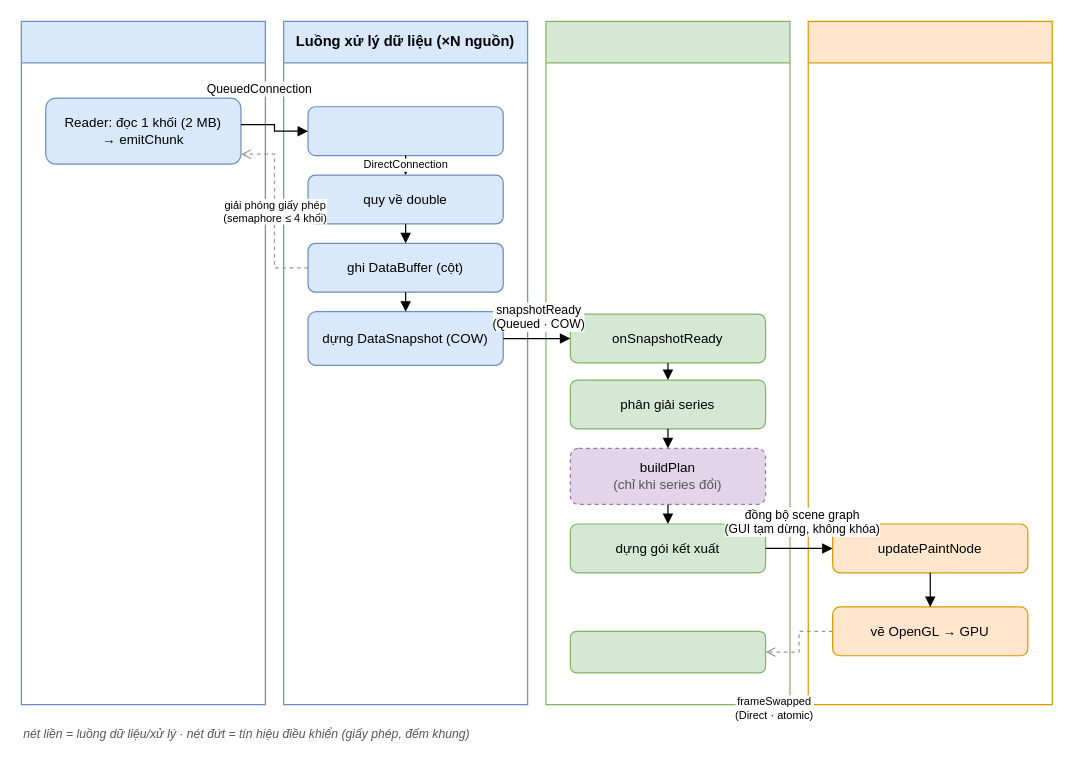
Image size: 1074x770. Some labels were removed from this diagram. Here are the shapes that lost their labels. From the top down, the box of each, then its label:
(307, 106, 503, 156): Parser: byte → hàng/lô
(20, 20, 265, 705): Luồng đọc (×N nguồn)
(545, 20, 790, 705): Luồng giao diện (GUI ×1)
(807, 20, 1052, 705): Luồng kết xuất scene graph (×1)
(569, 630, 766, 673): đếm khung / FPS (atomic)
